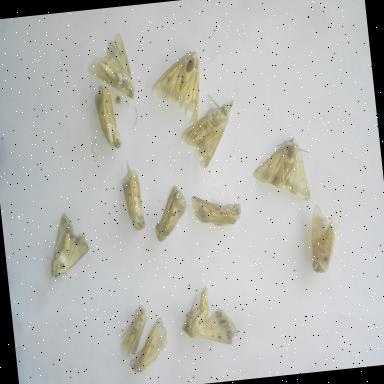abw: (246, 124, 316, 210), (172, 90, 243, 174), (146, 48, 210, 134), (174, 279, 242, 355), (38, 208, 98, 284), (82, 28, 139, 106), (299, 204, 349, 282), (122, 310, 178, 378), (187, 180, 246, 236), (111, 159, 152, 238), (148, 181, 194, 248), (87, 80, 125, 154), (114, 299, 155, 365)
